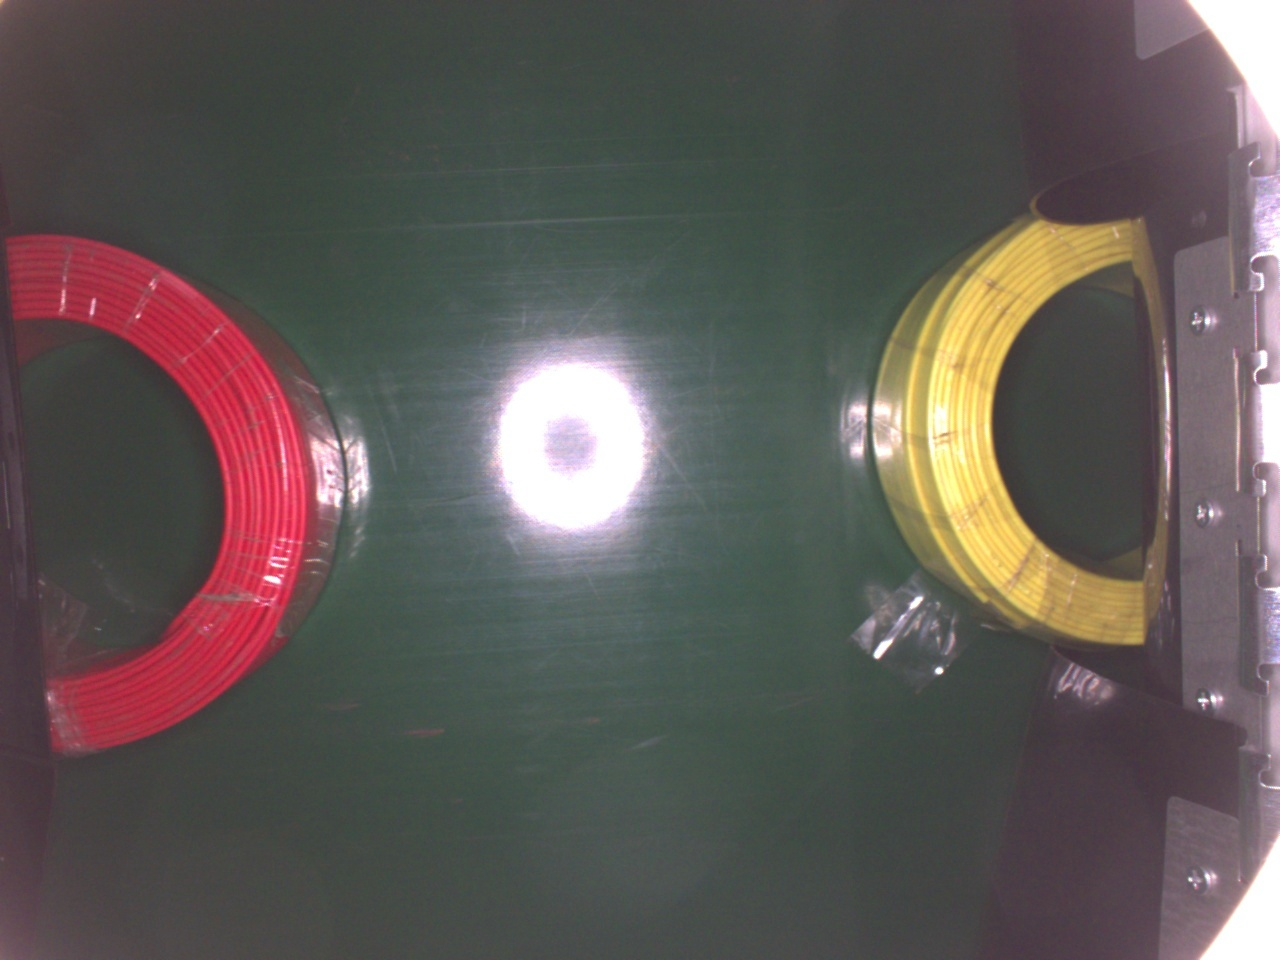red: (0, 226, 350, 761)
yellow: (863, 212, 1171, 646)
